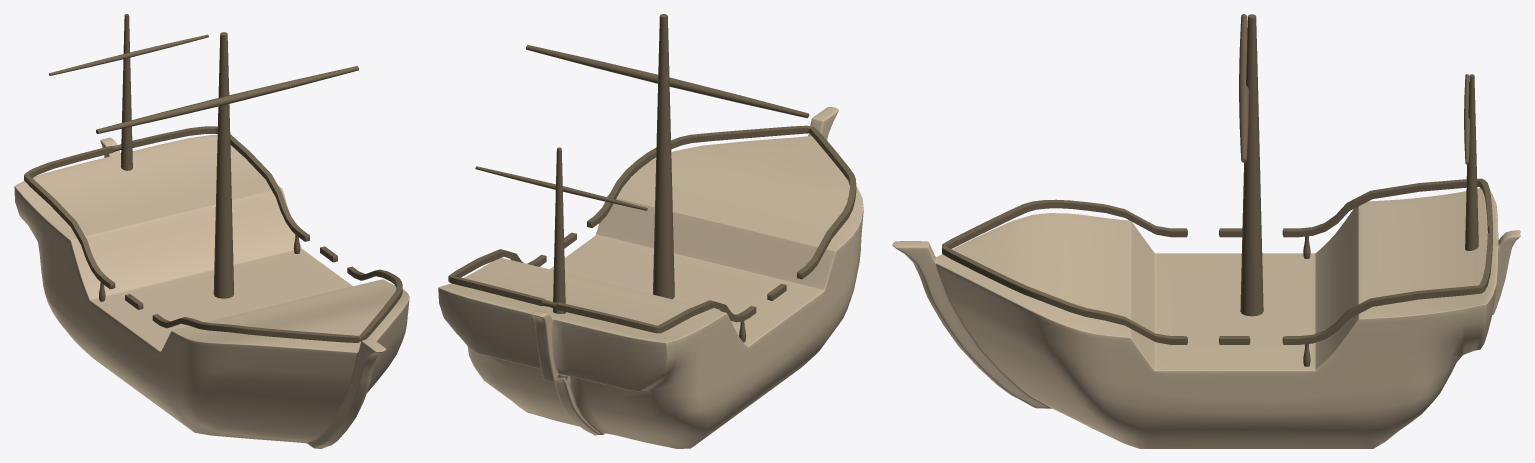
File: boat without objects.fbx
3 renders of one model, left to right at view 1: azimuth 30°, elevation 25°; view 2: azimuth 150°, elevation 25°; view 3: azimuth 270°, elevation 25°, orthographic. The views are drawn at different scales.
Parts seen in each view (by area): view 1: Coque_VB, Mât_VB (×2), polySurface2, Grand_porte_voile_VB (×2), polySurface1; view 2: Coque_VB, Mât_VB (×2), polySurface1, polySurface2, Grand_porte_voile_VB (×2); view 3: Coque_VB, Mât_VB (×2), polySurface1, polySurface2, Grand_porte_voile_VB.
Part boxes in pixels (<box>): Coque_VB: <box>14,134,409,448</box>; Mât_VB (×2): <box>120,14,233,298</box>; polySurface2: <box>24,126,309,289</box>; Grand_porte_voile_VB (×2): <box>49,34,358,133</box>; polySurface1: <box>152,266,402,342</box>; Coque_VB: <box>438,107,863,448</box>; Mât_VB (×2): <box>553,14,674,313</box>; polySurface1: <box>587,125,856,279</box>; polySurface2: <box>448,249,756,333</box>; Grand_porte_voile_VB (×2): <box>475,45,809,210</box>; Coque_VB: <box>892,188,1520,448</box>; Mât_VB (×2): <box>1240,14,1478,316</box>; polySurface1: <box>942,199,1187,344</box>; polySurface2: <box>1282,178,1492,344</box>; Grand_porte_voile_VB: <box>1239,14,1249,162</box>.
Bounding box in the file's own units: 6.31 × 7.95 × 11.61.
